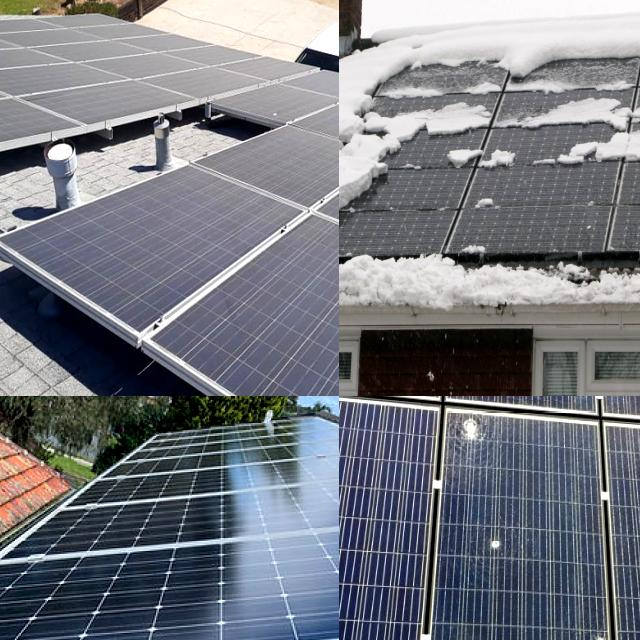crack: (80, 567, 272, 640), (174, 482, 320, 564), (224, 548, 339, 635)
dust: (256, 257, 339, 396), (108, 192, 212, 296), (0, 27, 81, 125), (78, 35, 198, 94), (245, 126, 318, 208), (254, 84, 296, 116)
hotspot: (476, 511, 520, 570), (450, 400, 490, 460), (532, 396, 587, 437), (577, 611, 627, 640)
panel: (388, 92, 518, 192), (366, 26, 484, 94), (339, 95, 388, 247), (490, 4, 606, 67), (530, 69, 640, 119), (546, 125, 640, 180), (451, 188, 514, 254)
